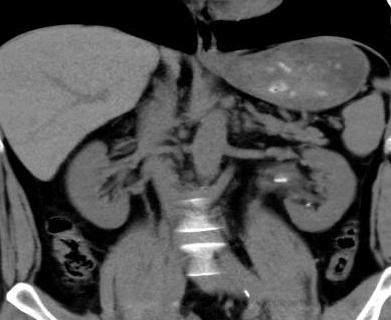Tas_Var: (272, 176, 290, 184), (304, 202, 314, 207)
